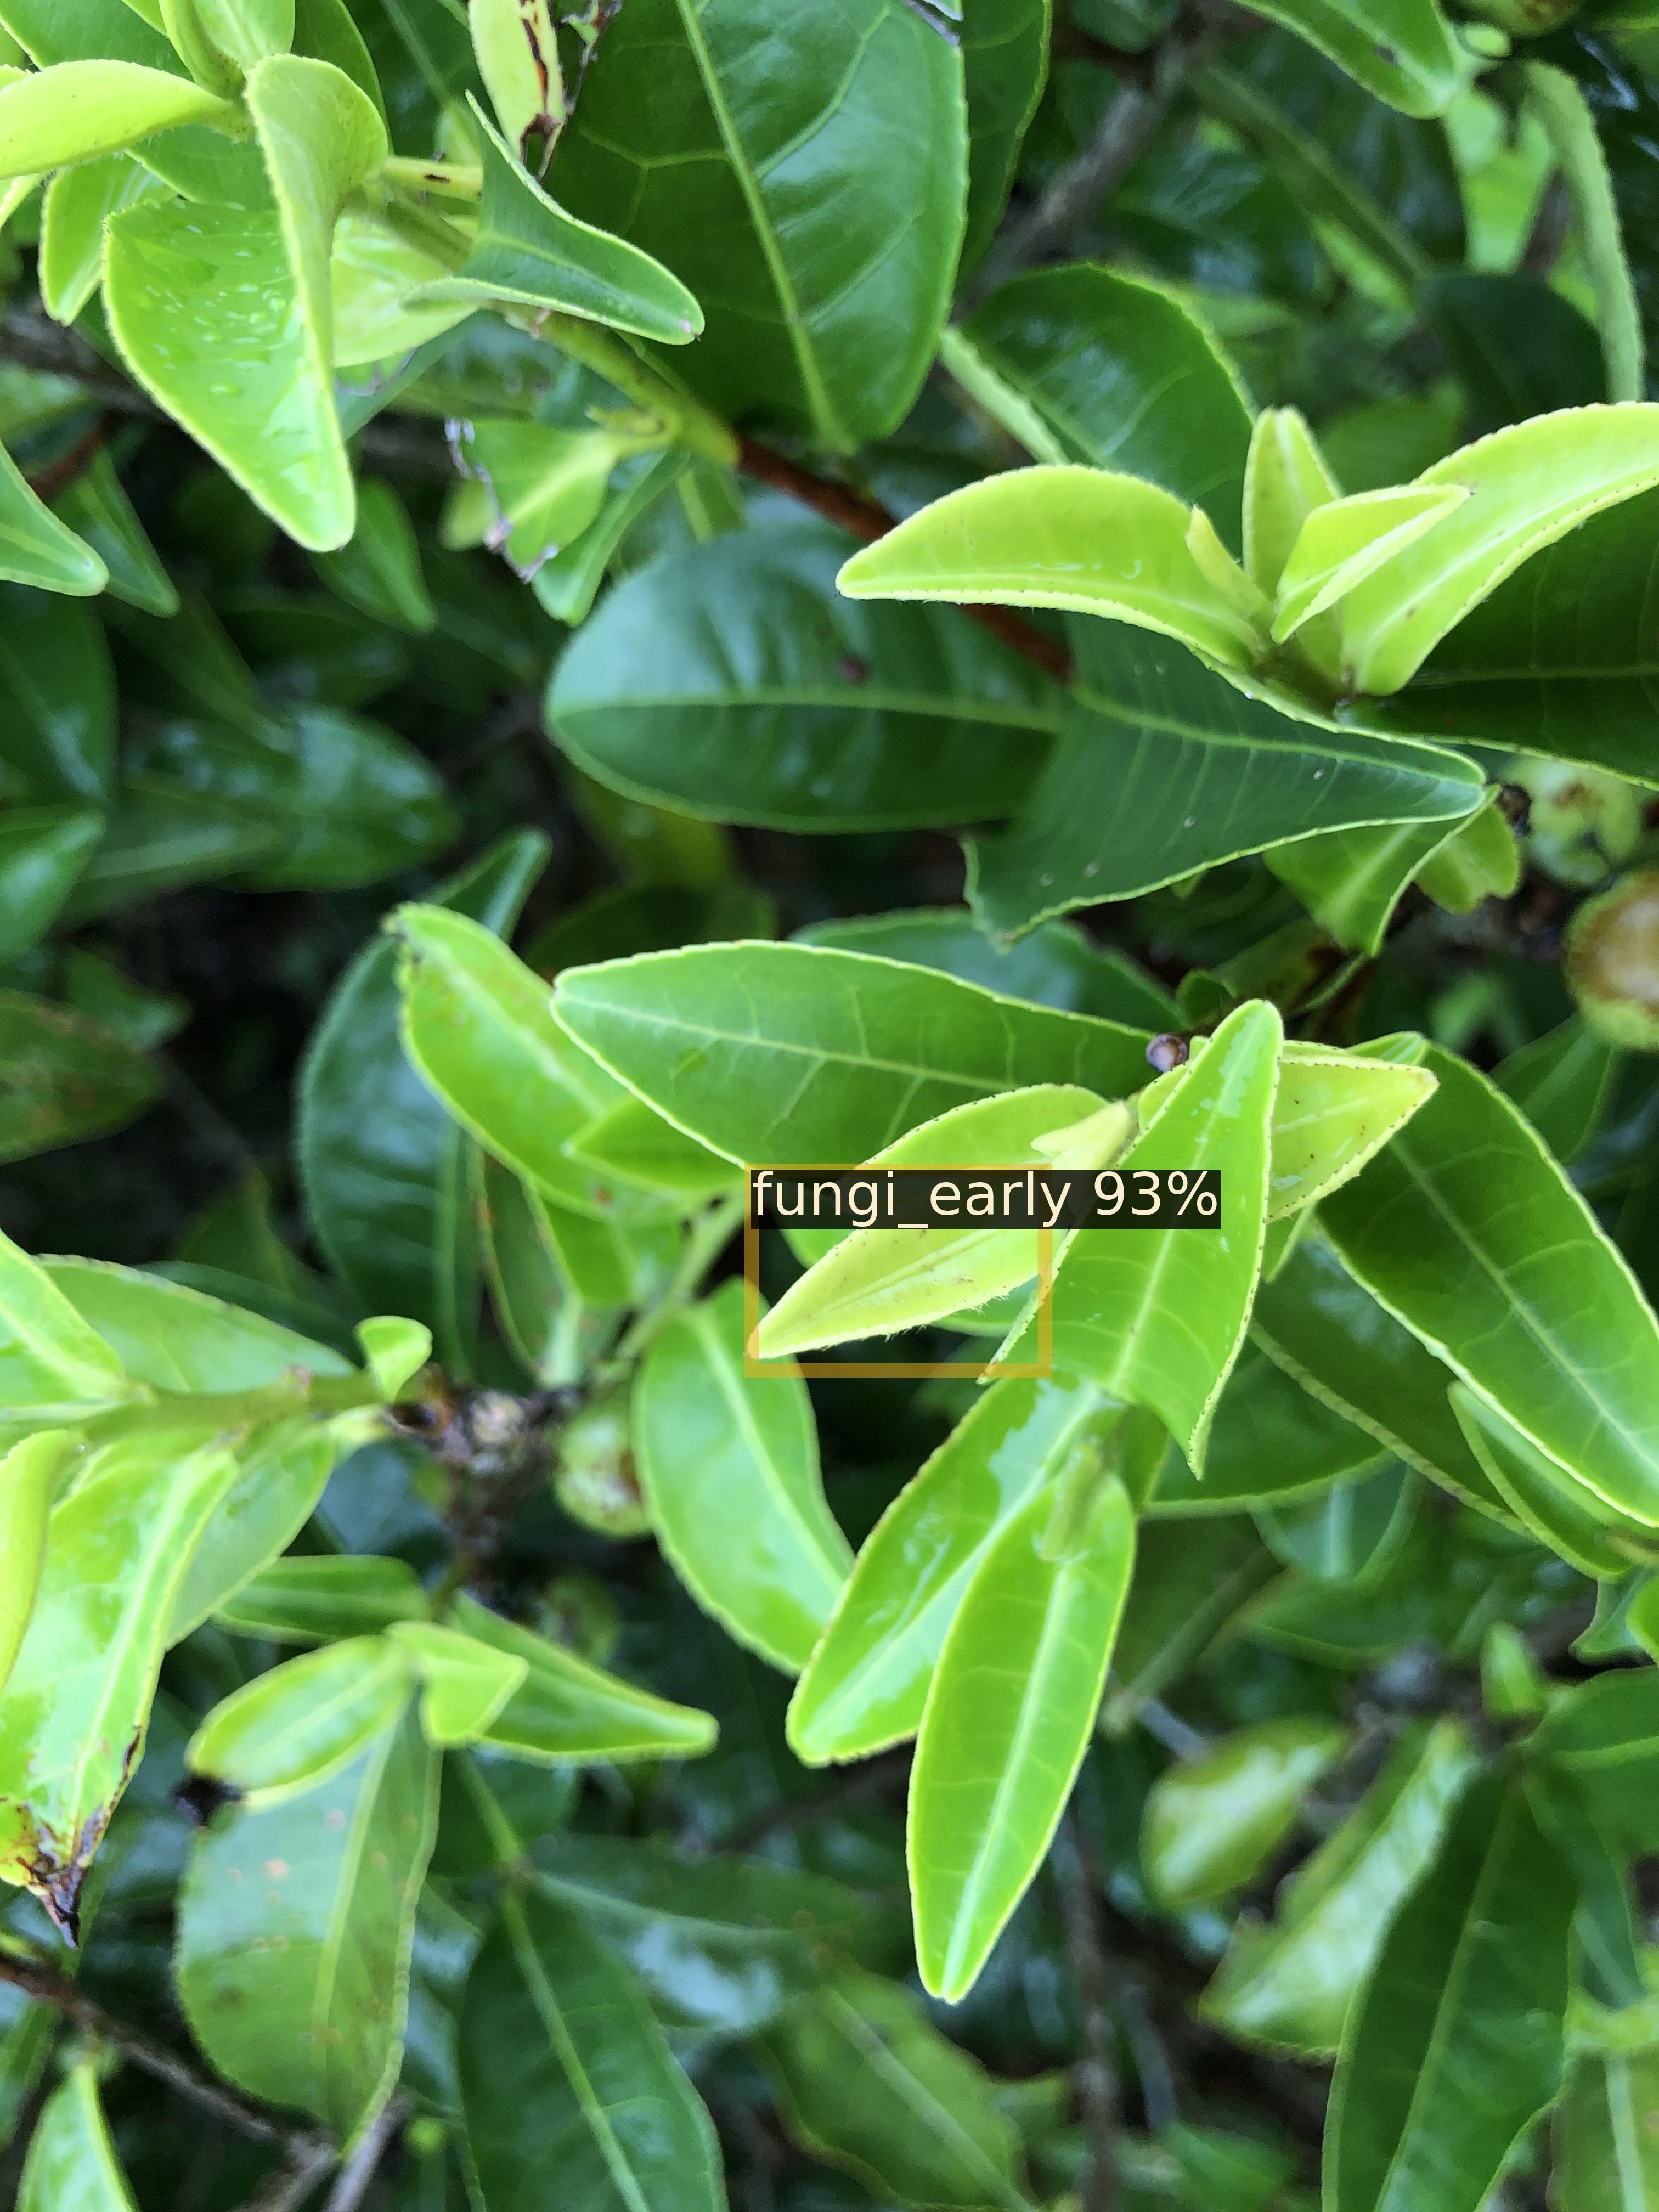fungi_early: (751, 1170, 1046, 1371)
